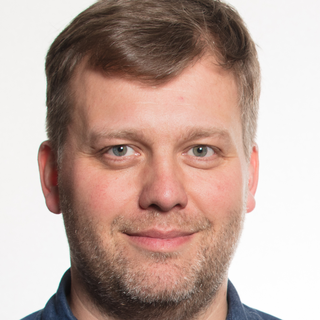eye: (95, 139, 145, 164), (180, 140, 226, 164)
